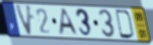2: (36, 7, 52, 34)
3: (75, 7, 95, 39), (98, 9, 117, 39)
A: (58, 8, 80, 36)
D: (114, 8, 135, 40)
V: (13, 3, 33, 37)
